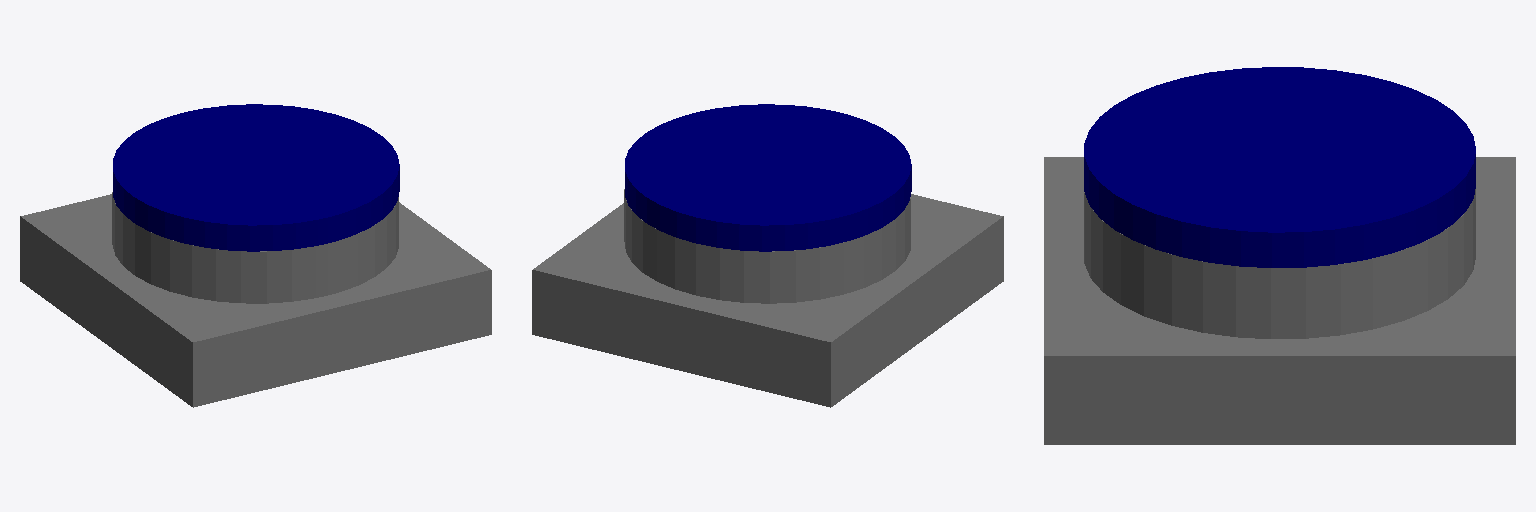
robot.urdf — UNNAMED_319:
<?xml version="1.0"?>
<robot  name="UNNAMED_319" >
 <link  name="BLM27_BLU0_BLU0_BLU0_U_b_body" >
  <inertial >
   <origin  rpy="0 0 0"  xyz="-9.4624E-18 1.1154E-17 0.022042" />
   <mass  value="0" />
   <inertia  ixx="0.009154"  iyy="0.009154"  ixz="-3.4018E-19"  izz="0.015925"  iyz="3.3647E-19"  ixy="1.7613E-19" />
  </inertial>
  <visual >
   <origin  rpy="0 0 0"  xyz="0 0 0" />
   <geometry >
    <mesh  filename="package://base-l.SLDASM/meshes/b_body.STL" />
   </geometry>
   <material  name="body" >
    <color  rgba="0.5 0.5 0.5 1" />
   </material>
  </visual>
  <collision >
   <origin  rpy="0 0 0"  xyz="0 0 0" />
   <geometry >
    <mesh  filename="package://base-l.SLDASM/meshes/b_body.STL" />
   </geometry>
  </collision>
 </link>
 <link  name="BLM27_BLU0_BLU0_BLU0_U_b_in" >
  <inertial >
   <origin  rpy="0 0 0"  xyz="-9.4624E-18 -5.3214E-19 0.029258" />
   <mass  value="5.9754" />
   <inertia  ixx="0.009154"  iyy="0.009154"  ixz="3.3605E-19"  izz="0.015925"  iyz="3.3422E-19"  ixy="-1.7613E-19" />
  </inertial>
  <visual >
   <origin  rpy="0 0 0"  xyz="0 0 0" />
   <geometry >
    <mesh  filename="package://base-l.SLDASM/meshes/b_in.STL" />
   </geometry>
   <material  name="blue" >
    <color  rgba="0 0 0.5 1" />
   </material>
  </visual>
  <collision >
   <origin  rpy="0 0 0"  xyz="0 0 0" />
   <geometry >
    <mesh  filename="package://base-l.SLDASM/meshes/b_in.STL" />
   </geometry>
  </collision>
 </link>
 <link  name="BLM27_BLU0_ILU0_ILU0_U_ci_body" >
  <inertial >
   <origin  rpy="0 0 0"  xyz="0 4.2001E-18 -0.0057" />
   <mass  value="0" />
   <inertia  ixx="0.00074704"  iyy="0.00074704"  ixz="5.6985E-37"  izz="0.0014744"  iyz="1.7343E-36"  ixy="0" />
  </inertial>
  <visual >
   <origin  rpy="0 0 0"  xyz="0 0 0" />
   <geometry >
    <mesh  filename="package://input_connector_l.SLDASM/meshes/ci_body.STL" />
   </geometry>
   <material  name="blue" >
    <color  rgba="0 0 0.5 1" />
   </material>
  </visual>
  <collision >
   <origin  rpy="0 0 0"  xyz="0 0 0" />
   <geometry >
    <mesh  filename="package://input_connector_l.SLDASM/meshes/ci_body.STL" />
   </geometry>
  </collision>
 </link>
 <link  name="BLM27_BLU0_ILU0_ILU0_U_ci_in" >
  <inertial >
   <origin  rpy="0 0 0"  xyz="-5.5075E-34 -1.7044E-17 0.0057" />
   <mass  value="0" />
   <inertia  ixx="0.00074704"  iyy="0.00074704"  ixz="5.6985E-37"  izz="0.0014744"  iyz="1.7343E-36"  ixy="0" />
  </inertial>
  <visual >
   <origin  rpy="0 0 0"  xyz="0 0 0" />
   <geometry >
    <mesh  filename="package://input_connector_l.SLDASM/meshes/ci_in.STL" />
   </geometry>
   <material  name="blue" >
    <color  rgba="0 0 0.5 1" />
   </material>
  </visual>
  <collision >
   <origin  rpy="0 0 0"  xyz="0 0 0" />
   <geometry >
    <mesh  filename="package://input_connector_l.SLDASM/meshes/ci_in.STL" />
   </geometry>
  </collision>
 </link>
 <joint  type="fixed"  name="BLM27_BLU0_BLU0_BLU0_U_b_large" >
  <origin  rpy="3.14159265358979 0 0"  xyz="0 0 0.0513" />
  <parent  link="BLM27_BLU0_BLU0_BLU0_U_b_body" />
  <child  link="BLM27_BLU0_BLU0_BLU0_U_b_in" />
  <axis  xyz="0 0 1" />
 </joint>
 <joint  type="fixed"  name="BLM27_BLU0_ILU0_ILU0_U_ci_large_1" >
  <origin  rpy="0 0 0"  xyz="0 0 0" />
  <parent  link="BLM27_BLU0_BLU0_BLU0_U_b_in" />
  <child  link="BLM27_BLU0_ILU0_ILU0_U_ci_body" />
  <axis  xyz="0 0 0" />
 </joint>
 <joint  type="fixed"  name="BLM27_BLU0_ILU0_ILU0_U_ci_large_2" >
  <origin  rpy="0 0 0"  xyz="0 0 -0.0114" />
  <parent  link="BLM27_BLU0_ILU0_ILU0_U_ci_body" />
  <child  link="BLM27_BLU0_ILU0_ILU0_U_ci_in" />
  <axis  xyz="0 0 0" />
 </joint>
</robot>

--- What the picture shows (computed from the rendered views, not written in the file) ---
3 views of the same robot in one strip: view 1: azimuth 30°, elevation 25°; view 2: azimuth 150°, elevation 25°; view 3: azimuth 270°, elevation 25° (orthographic).
Model UNNAMED_319 with 4 links and 3 joints (3 fixed), rooted at BLM27_BLU0_BLU0_BLU0_U_b_body, posed every joint at zero.
Visible links, largest first — view 1: BLM27_BLU0_BLU0_BLU0_U_b_body, BLM27_BLU0_ILU0_ILU0_U_ci_body, BLM27_BLU0_ILU0_ILU0_U_ci_in; view 2: BLM27_BLU0_BLU0_BLU0_U_b_body, BLM27_BLU0_ILU0_ILU0_U_ci_body, BLM27_BLU0_ILU0_ILU0_U_ci_in; view 3: BLM27_BLU0_BLU0_BLU0_U_b_body, BLM27_BLU0_ILU0_ILU0_U_ci_body, BLM27_BLU0_ILU0_ILU0_U_ci_in.
Boxes of the visible links, x1,y1,x2,y2 form: BLM27_BLU0_BLU0_BLU0_U_b_body: (20,192,491,407); BLM27_BLU0_ILU0_ILU0_U_ci_body: (113,104,399,251); BLM27_BLU0_ILU0_ILU0_U_ci_in: (138,115,373,214); BLM27_BLU0_BLU0_BLU0_U_b_body: (532,189,1003,407); BLM27_BLU0_ILU0_ILU0_U_ci_body: (625,104,911,251); BLM27_BLU0_ILU0_ILU0_U_ci_in: (650,115,885,214); BLM27_BLU0_BLU0_BLU0_U_b_body: (1044,157,1515,444); BLM27_BLU0_ILU0_ILU0_U_ci_body: (1084,67,1475,267); BLM27_BLU0_ILU0_ILU0_U_ci_in: (1119,82,1441,217).
Bounding box of the posed robot: 0.1368 × 0.1368 × 0.0627 m (x, y, z).
4 mesh visuals loaded from 4 distinct referenced files (4 binary STL).